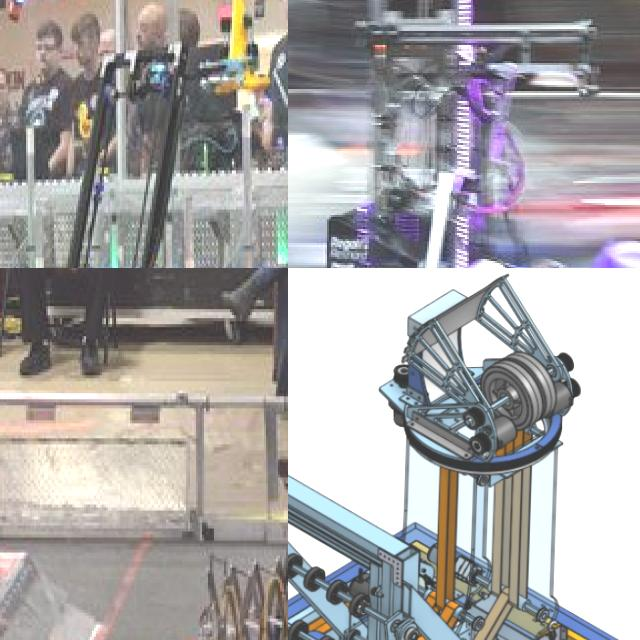FRC-Robots: (288, 271, 640, 640), (288, 0, 640, 268), (0, 0, 288, 268), (107, 268, 288, 640)
